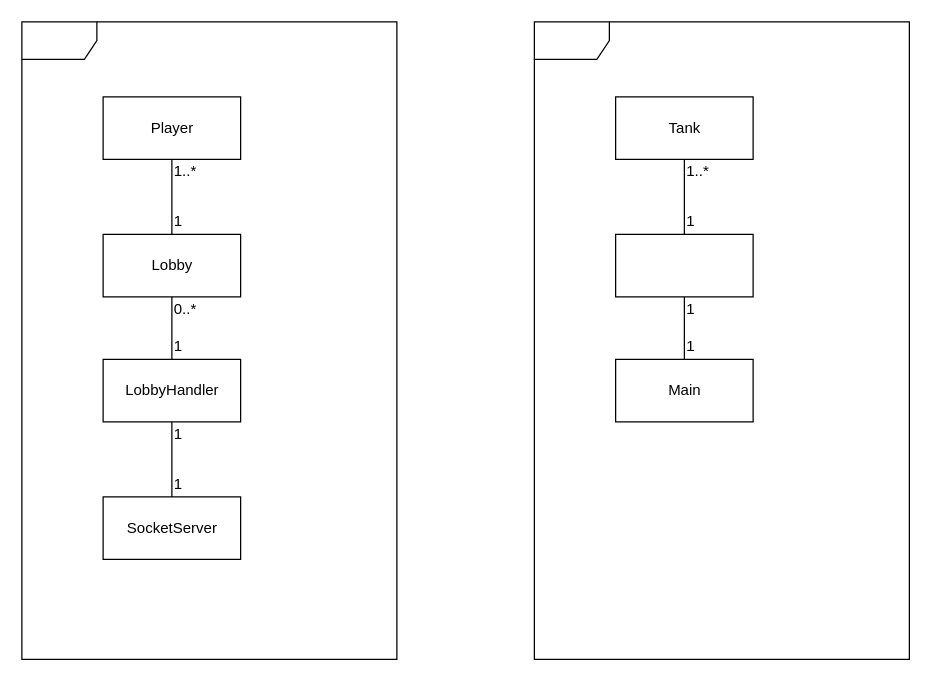
Some shapes in this 931 by 681 pixel diagram are drawn without their labels. The shapes that lost their labels are listed below. From the top down, each one's box as (x1, y1, x2, y2) in pixels, then its label:
(614, 233, 753, 297): Game
(21, 21, 397, 659): Server
(533, 21, 909, 659): Client
